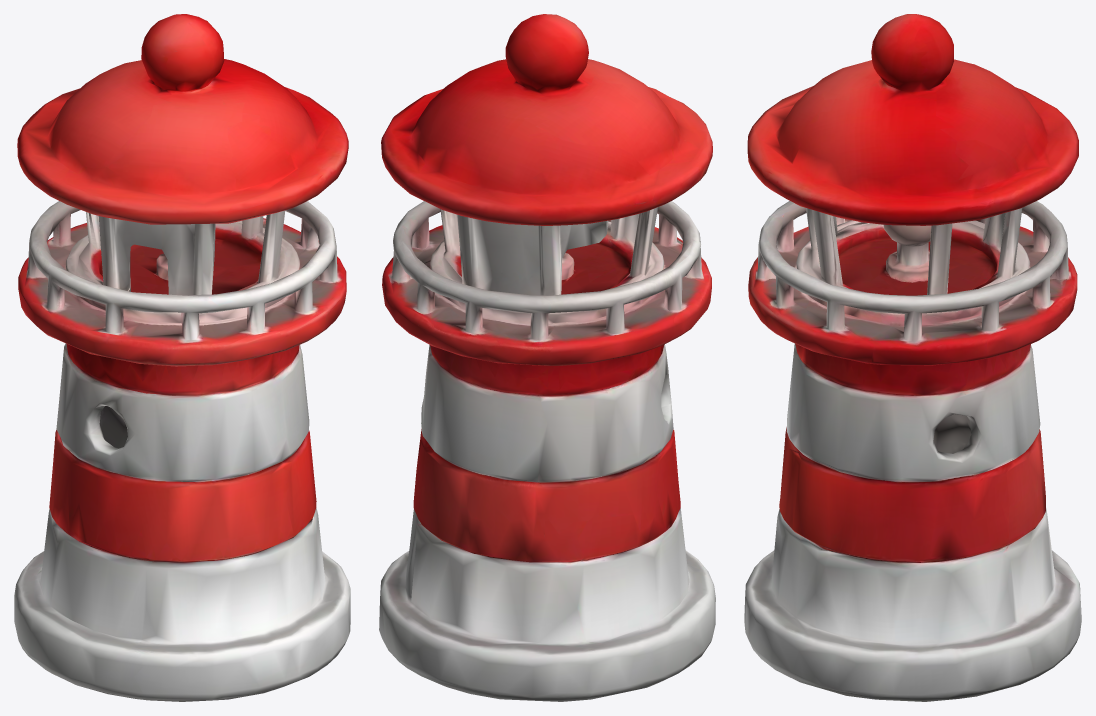
File: lighthouse.glb
3 views of the same model, side by side, from view 1: azimuth 30°, elevation 25°; view 2: azimuth 150°, elevation 25°; view 3: azimuth 270°, elevation 25° (orthographic).
Parts seen in each view (by area): view 1: tripo_node_220de488-d3eb-4d69-9c3c-c59286dfaaa1; view 2: tripo_node_220de488-d3eb-4d69-9c3c-c59286dfaaa1; view 3: tripo_node_220de488-d3eb-4d69-9c3c-c59286dfaaa1.
Boxes of the visible parts, x1,y1,x2,y2 form: tripo_node_220de488-d3eb-4d69-9c3c-c59286dfaaa1: (14,14,350,701); tripo_node_220de488-d3eb-4d69-9c3c-c59286dfaaa1: (379,14,715,701); tripo_node_220de488-d3eb-4d69-9c3c-c59286dfaaa1: (744,14,1081,701).
Bounding box in the file's own units: 0.4956 × 0.9999 × 0.4934.
1 material, 1 textured.
